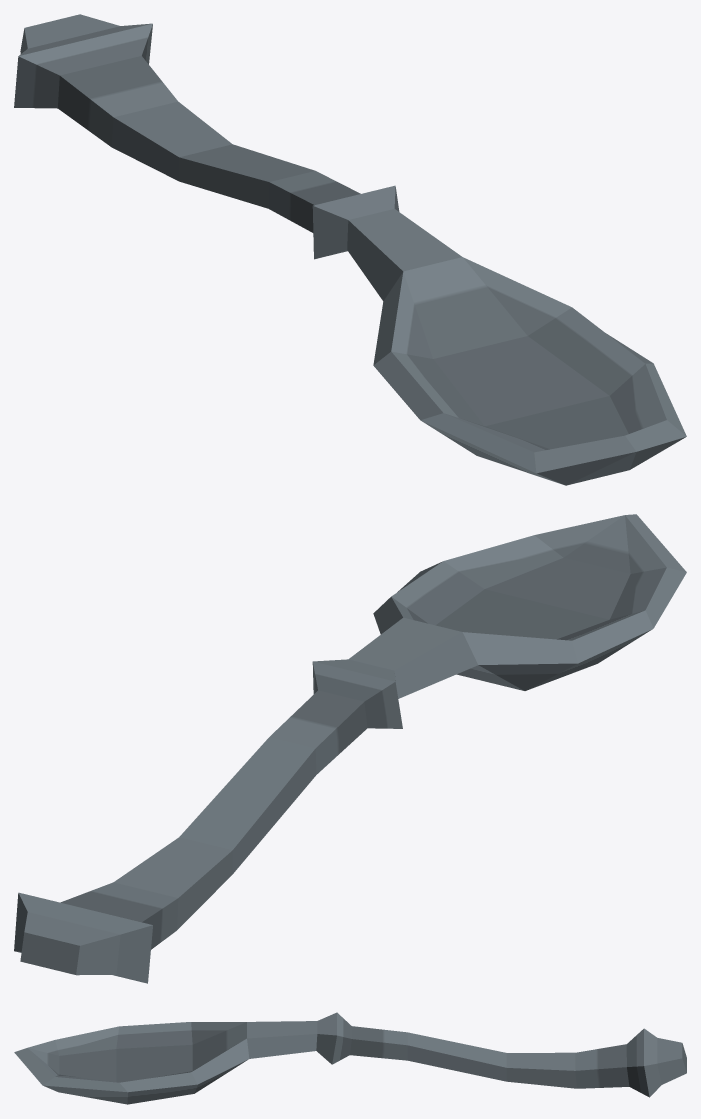
Rendered from SM_Prop_Spoon_01.fbx.
The picture shows the model from 3 angles, top to bottom: view 1: azimuth 30°, elevation 25°; view 2: azimuth 150°, elevation 25°; view 3: azimuth 270°, elevation 25°; orthographic projection. The views are drawn at different scales.
Visible parts, largest first — view 1: SM_Prop_Spoon_01; view 2: SM_Prop_Spoon_01; view 3: SM_Prop_Spoon_01.
Part boxes in pixels (x1,y1,x2,y2): SM_Prop_Spoon_01: [14, 14, 686, 485]; SM_Prop_Spoon_01: [14, 514, 686, 983]; SM_Prop_Spoon_01: [14, 1012, 686, 1104].
Bounding box in the file's own units: 8.67 × 3.96 × 37.88.
